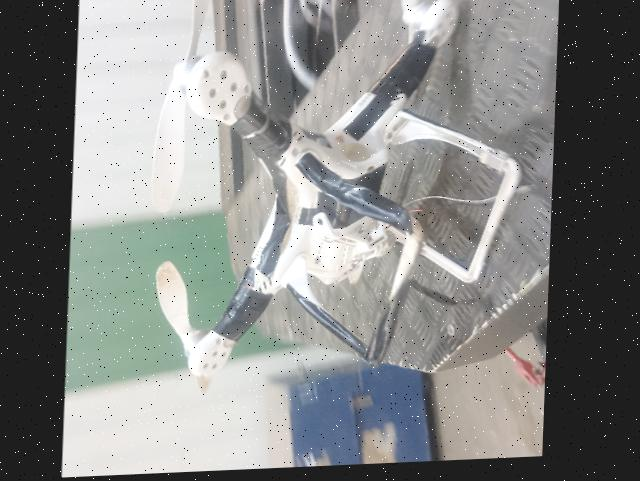drone: (135, 0, 529, 386)
